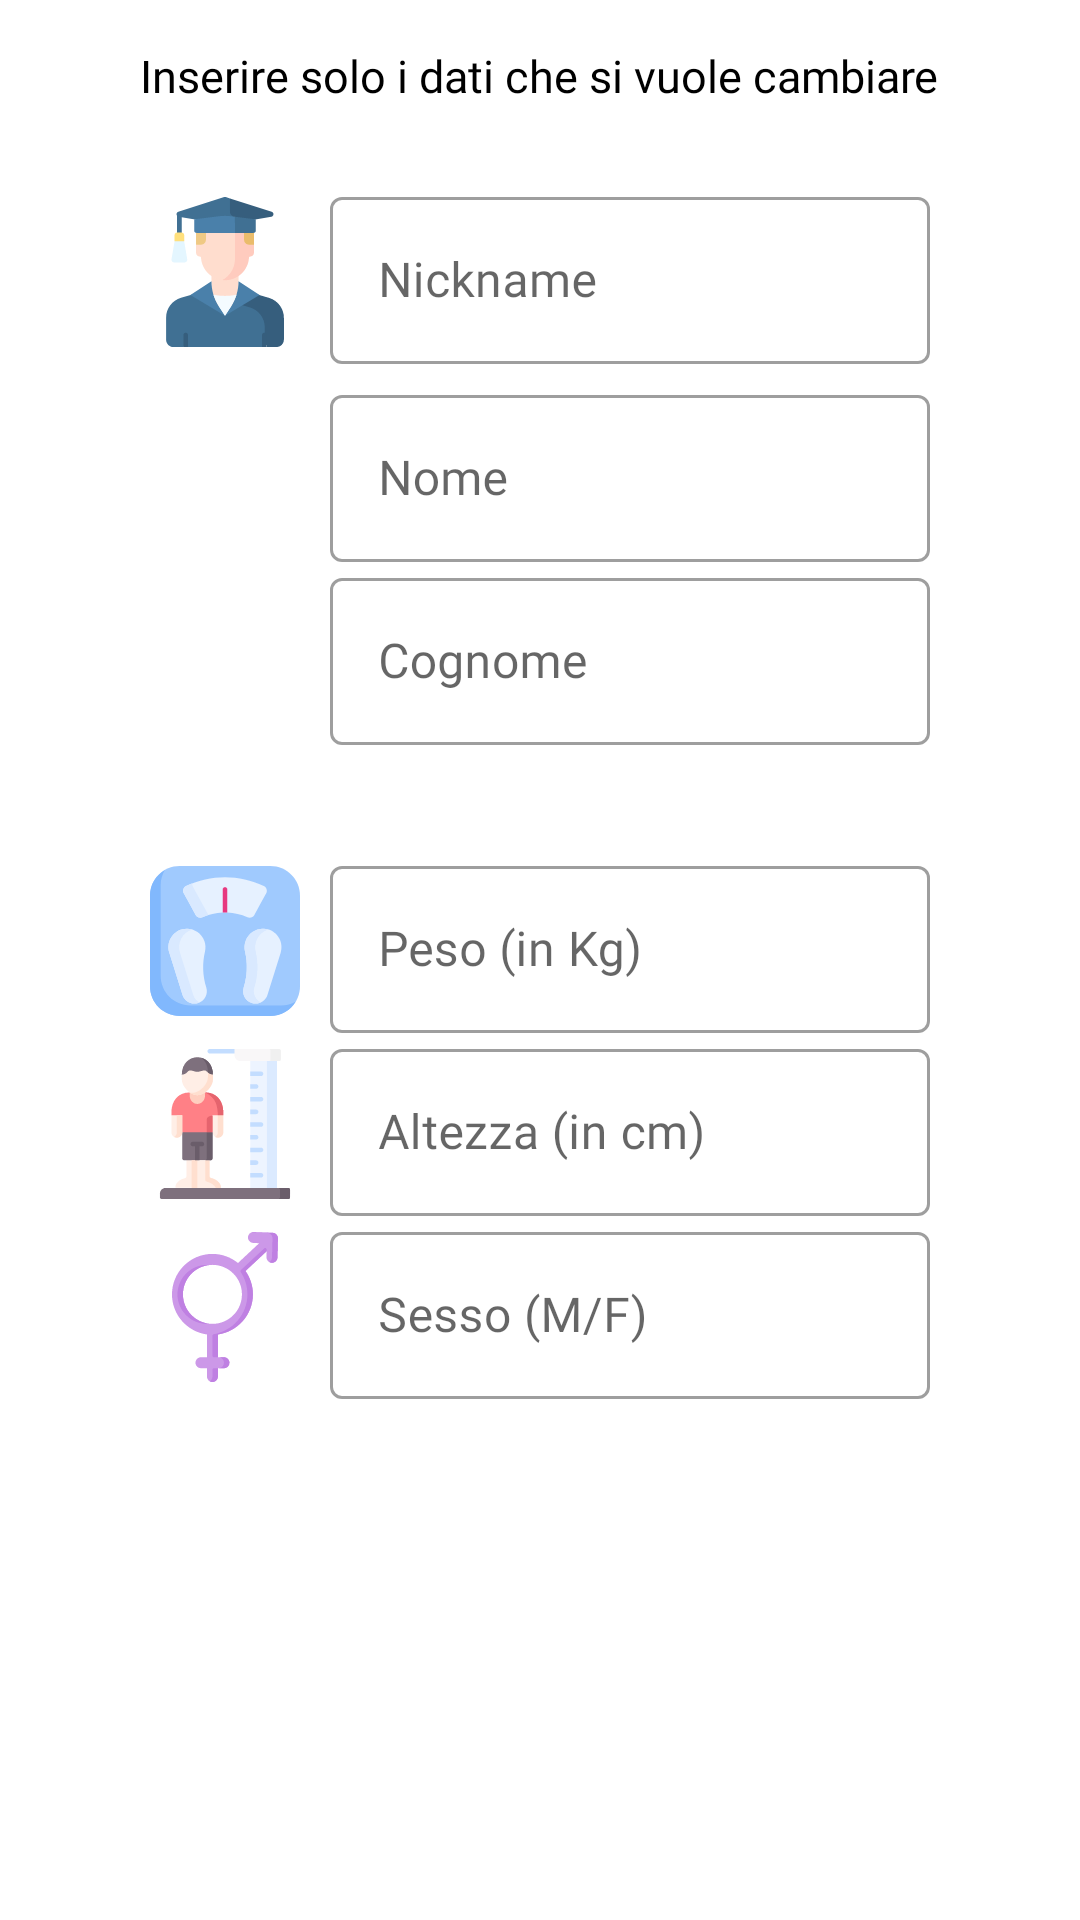

Screen size 1080*1920. Icon name, then its box in pixels as (x1, y1, x2, y2):
profile foto: (166, 197, 284, 347)
profile gender: (172, 1232, 278, 1382)
profile height: (160, 1049, 290, 1199)
profile weight: (150, 866, 300, 1016)
